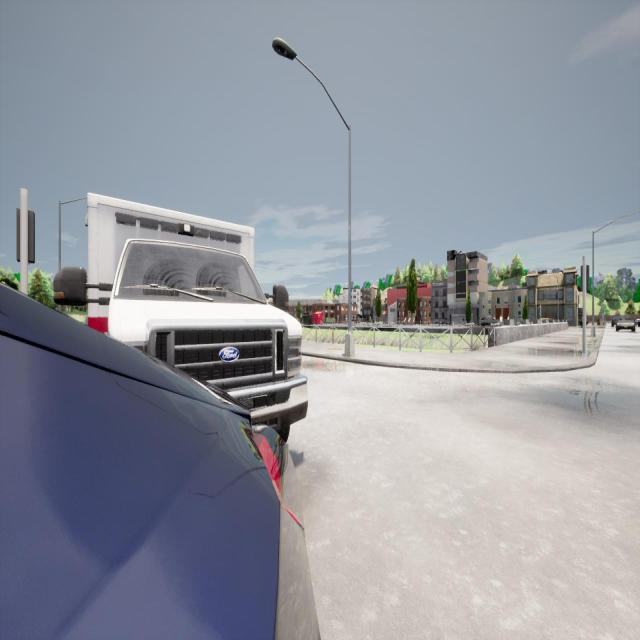Vehicle: (0, 282, 319, 640), (55, 192, 310, 444), (616, 314, 635, 332), (477, 316, 500, 326), (611, 314, 616, 327)
traffic_light: (18, 207, 37, 266), (580, 265, 588, 292)
